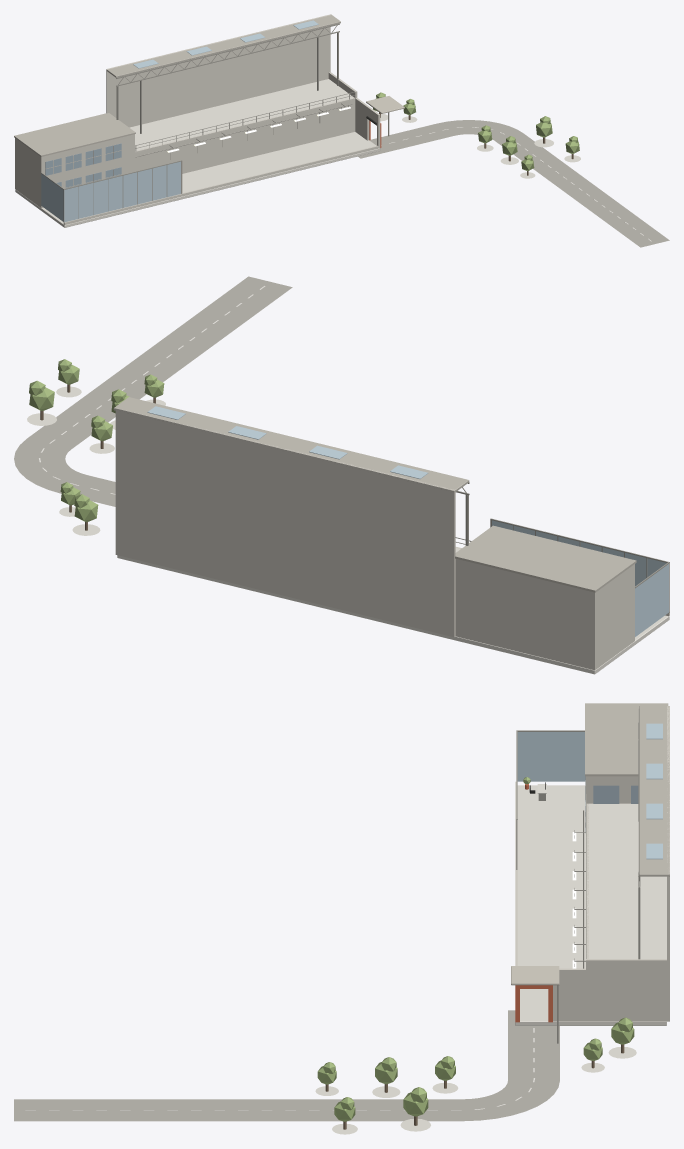
The model's file is factory_hall.glb.
3 views of the same model, one above another, from view 1: azimuth 30°, elevation 25°; view 2: azimuth 150°, elevation 25°; view 3: azimuth 270°, elevation 25° (orthographic). The views are drawn at different scales.
Parts seen in each view (by area): view 1: factory_hall_parts; view 2: factory_hall_parts; view 3: factory_hall_parts.
Boxes of the visible parts, x1,y1,x2,y2 form: factory_hall_parts: (14, 14, 669, 247); factory_hall_parts: (14, 276, 669, 674); factory_hall_parts: (14, 703, 669, 1134).
Size of the model in its own units: 69 by 14.4 by 55.5.
